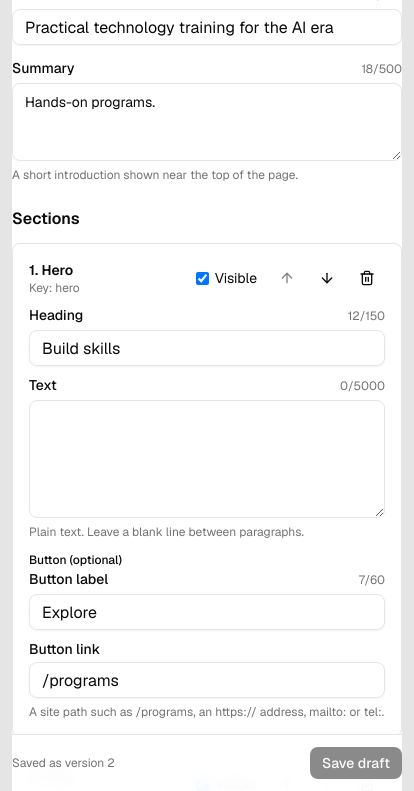
Test: PageEditor › also saves from the bottom bar shown on phones and tablets
Step 1. Replace the text in the field labelled "Title *" with "From a phone" → (207, 27), box [12,9,402,45]
(page scrolled)
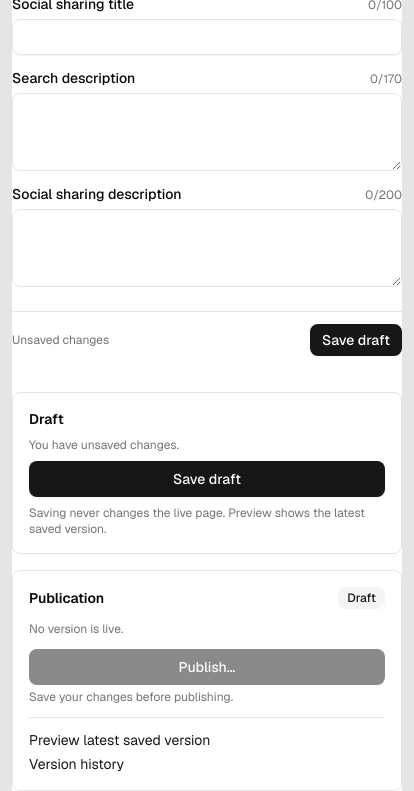
Step 2. Click the button "Save draft" below "You have unsaved changes." → (207, 479), box [29,461,385,497]
(page scrolled)
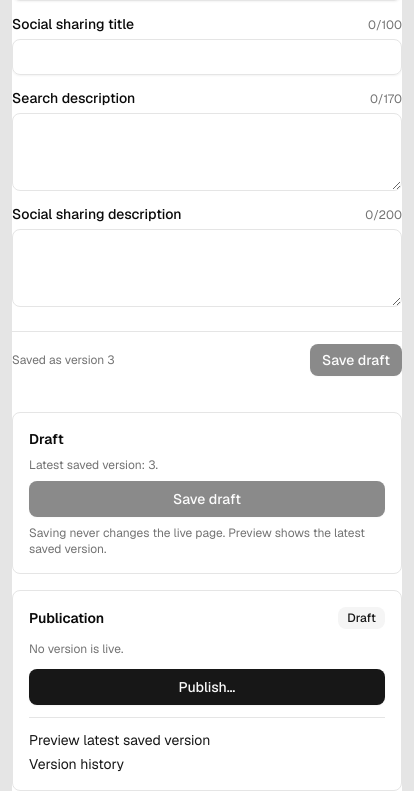
Check: the text "Saved as version 3" is shown, box [12,352,115,368]
